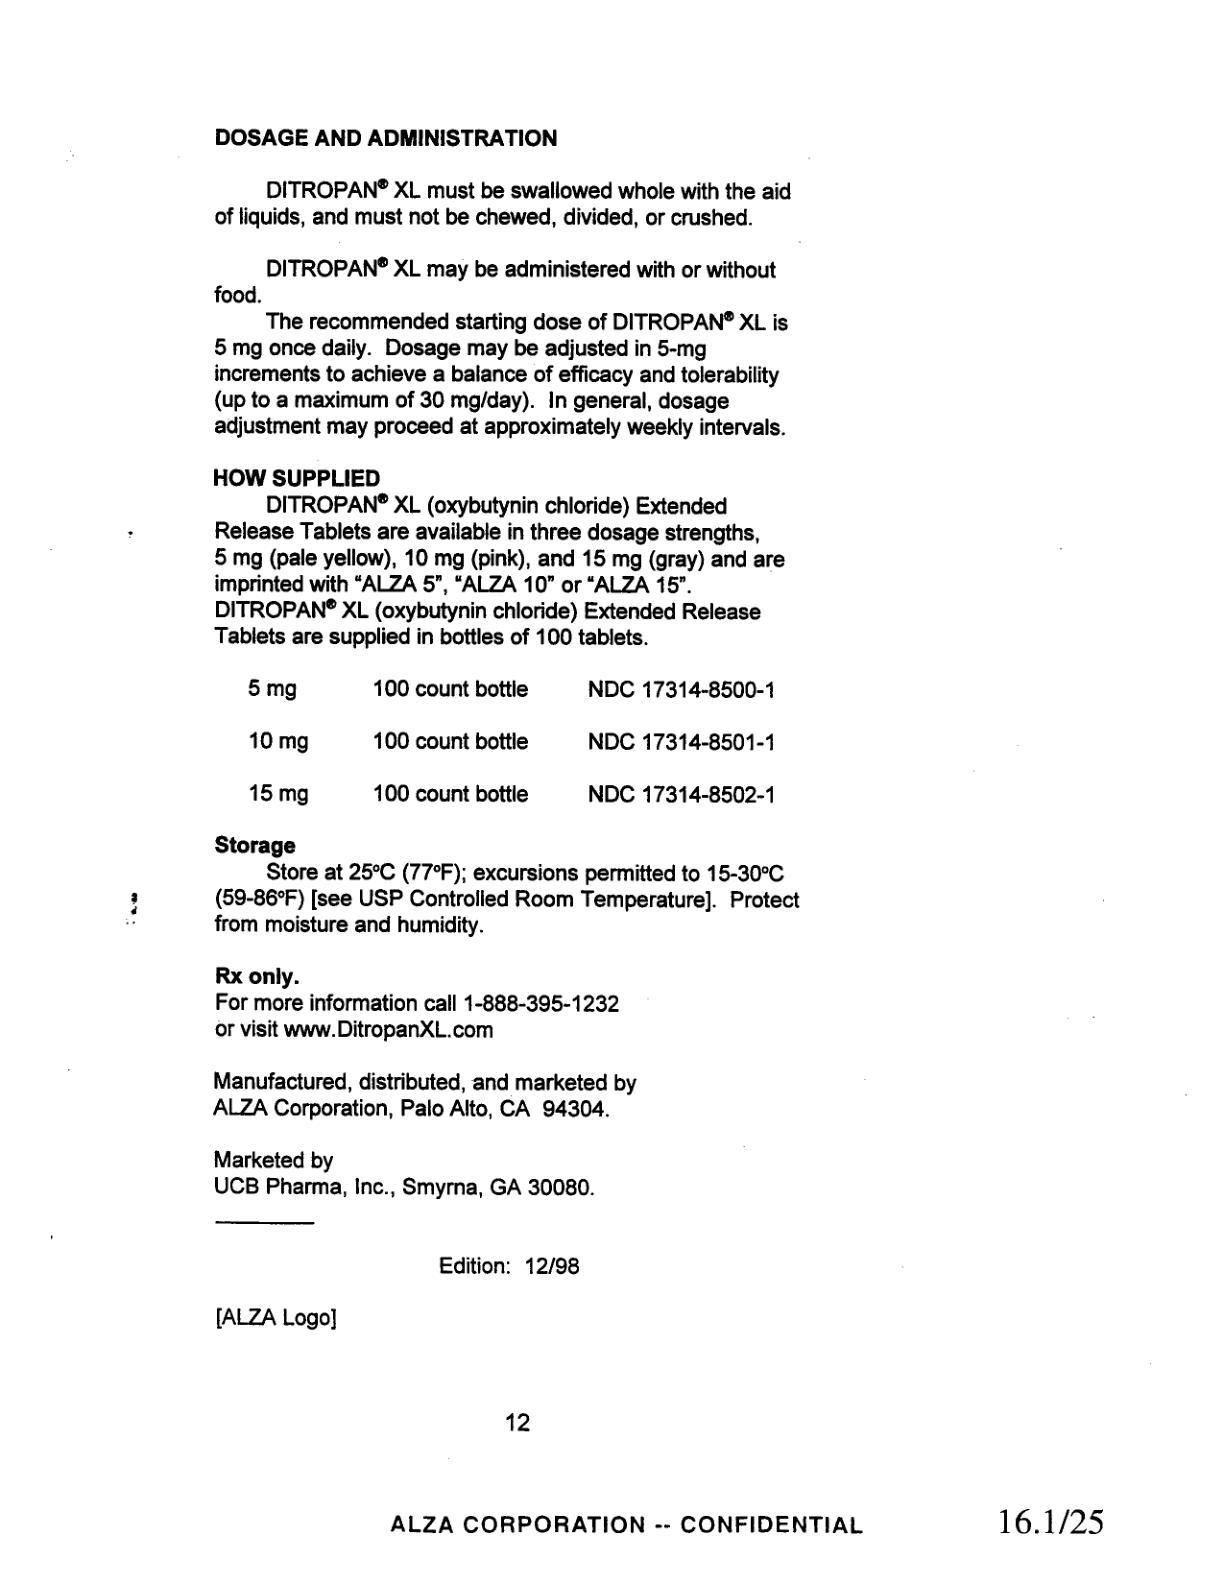nolines: (246, 672, 777, 809)
